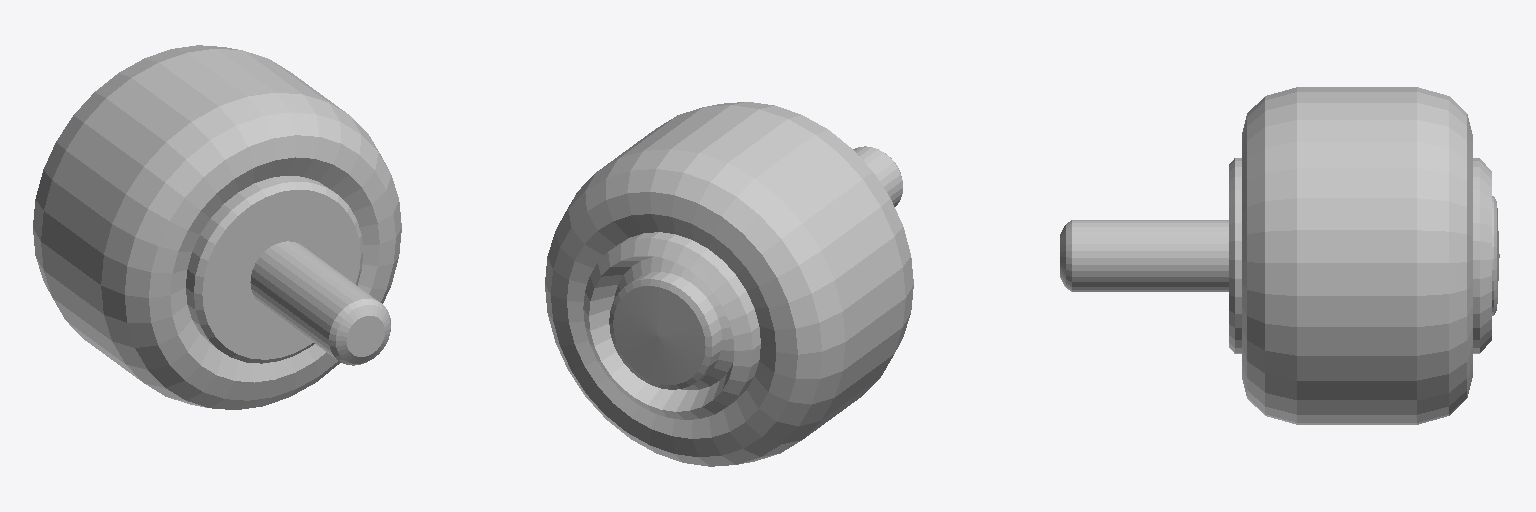
Rendered from kaiserkong_wheel4.obj.
The picture shows the model from 3 angles: view 1: azimuth 30°, elevation 25°; view 2: azimuth 150°, elevation 25°; view 3: azimuth 270°, elevation 25°; orthographic projection.
Visible parts, largest first — view 1: wheels_low_Wheel_low.000; view 2: wheels_low_Wheel_low.000; view 3: wheels_low_Wheel_low.000.
Boxes of the visible parts, <box> form: wheels_low_Wheel_low.000: <box>33,45,401,409</box>; wheels_low_Wheel_low.000: <box>545,102,913,466</box>; wheels_low_Wheel_low.000: <box>1060,87,1499,424</box>.
Bounding box in the file's own units: 1.17 × 1.17 × 1.52.